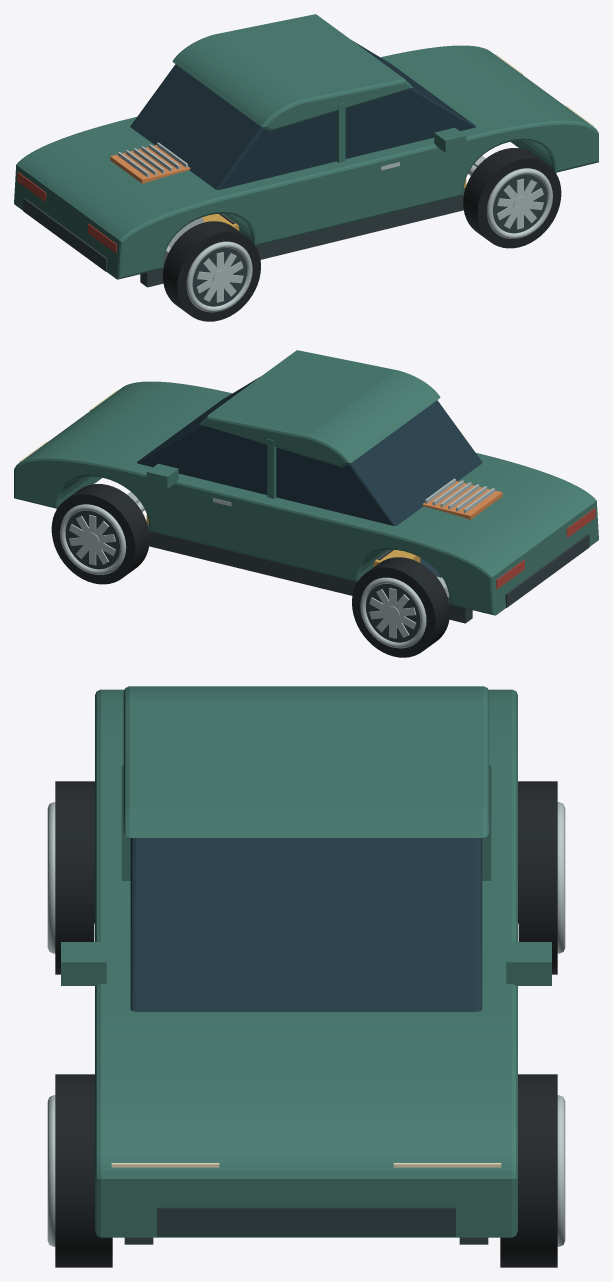
File: car.glb
3 views of the same model, one above another, from view 1: azimuth 30°, elevation 25°; view 2: azimuth 150°, elevation 25°; view 3: azimuth 270°, elevation 25° (orthographic). The views are drawn at different scales.
Parts seen in each view (by area): view 1: Sculpted body with four wheel openings, Glazed cabin, Painted roof panel, Tyre (×2), Longitudinal frame rail, Alloy rim (×2), Brake disc (×2), Rear bumper, Power electronics enclosure, Mirror, B pillar; view 2: Sculpted body with four wheel openings, Glazed cabin, Painted roof panel, Tyre (×2), Longitudinal frame rail, Alloy rim (×2), Brake disc (×2), Rear bumper, Power electronics enclosure, Mirror, B pillar; view 3: Sculpted body with four wheel openings, Glazed cabin, Painted roof panel, Tyre (×4), Lower front intake, Alloy rim (×4), Mirror (×2).
Boxes of the visible parts, left/top/right/bottom form: Sculpted body with four wheel openings: left=14, top=45, right=598, bottom=279; Glazed cabin: left=130, top=40, right=476, bottom=189; Painted roof panel: left=172, top=14, right=413, bottom=131; Tyre (×2): left=163, top=148, right=561, bottom=321; Longitudinal frame rail: left=140, top=188, right=465, bottom=287; Alloy rim (×2): left=186, top=168, right=552, bottom=312; Brake disc (×2): left=192, top=174, right=547, bottom=306; Rear bumper: left=23, top=198, right=107, bottom=271; Power electronics enclosure: left=110, top=145, right=190, bottom=183; Mirror: left=434, top=127, right=466, bottom=152; B pillar: left=336, top=103, right=345, bottom=162; Sculpted body with four wheel openings: left=14, top=381, right=598, bottom=615; Glazed cabin: left=137, top=376, right=482, bottom=525; Painted roof panel: left=199, top=350, right=440, bottom=467; Tyre (×2): left=51, top=484, right=449, bottom=657; Longitudinal frame rail: left=147, top=524, right=472, bottom=623; Alloy rim (×2): left=60, top=504, right=426, bottom=648; Brake disc (×2): left=65, top=510, right=420, bottom=642; Rear bumper: left=505, top=534, right=589, bottom=607; Power electronics enclosure: left=422, top=481, right=502, bottom=519; Mirror: left=146, top=463, right=178, bottom=488; B pillar: left=267, top=439, right=276, bottom=498; Sculpted body with four wheel openings: left=95, top=689, right=517, bottom=1237; Glazed cabin: left=130, top=838, right=482, bottom=1011; Painted roof panel: left=123, top=686, right=489, bottom=837; Tyre (×4): left=55, top=781, right=557, bottom=1267; Lower front intake: left=157, top=1207, right=455, bottom=1236; Alloy rim (×4): left=47, top=802, right=565, bottom=1246; Mirror (×2): left=61, top=942, right=551, bottom=985.
Size of the model in its own units: 4.67 by 1.69 by 2.17.
